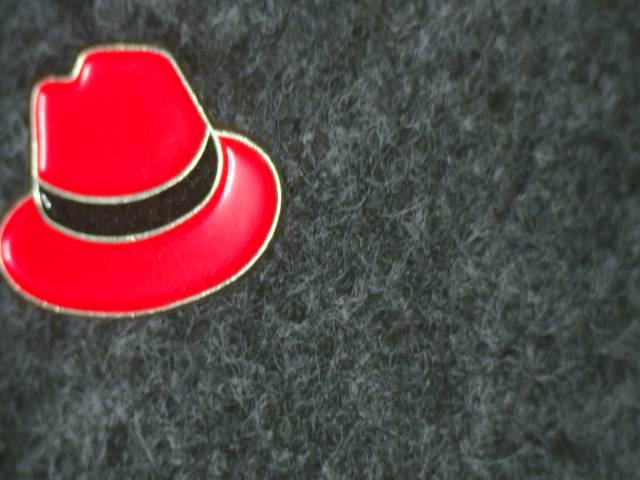Red-Hat: (0, 39, 313, 339)
